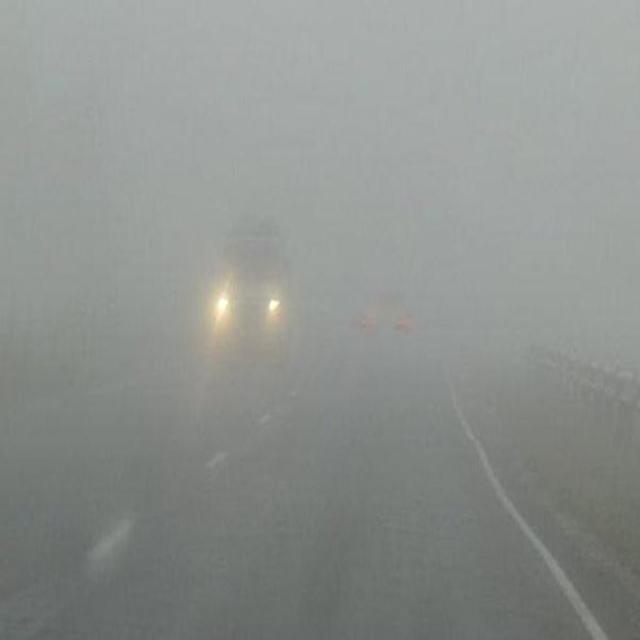Car: (352, 284, 418, 364)
Van: (214, 222, 295, 360)
